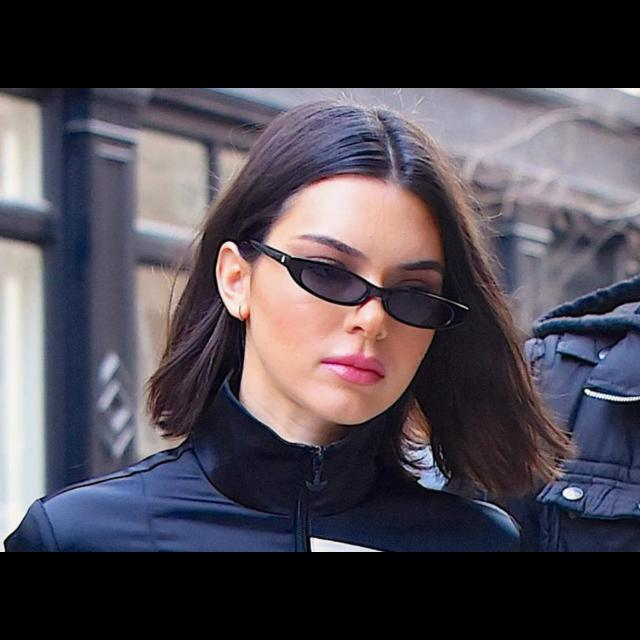Sunglasses: (248, 230, 476, 342)
